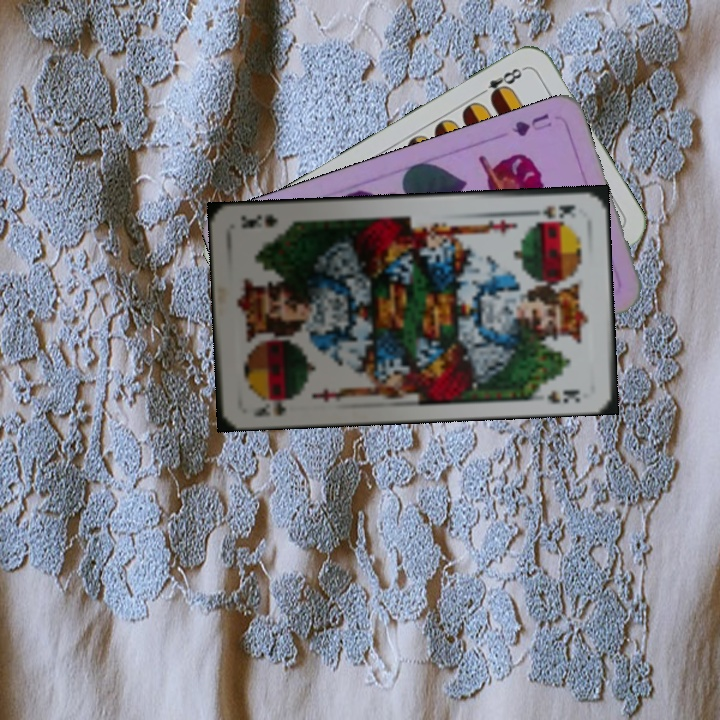E8: (474, 63, 528, 103)
GU: (507, 109, 555, 139)
SK: (249, 392, 297, 420), (523, 200, 577, 222)
